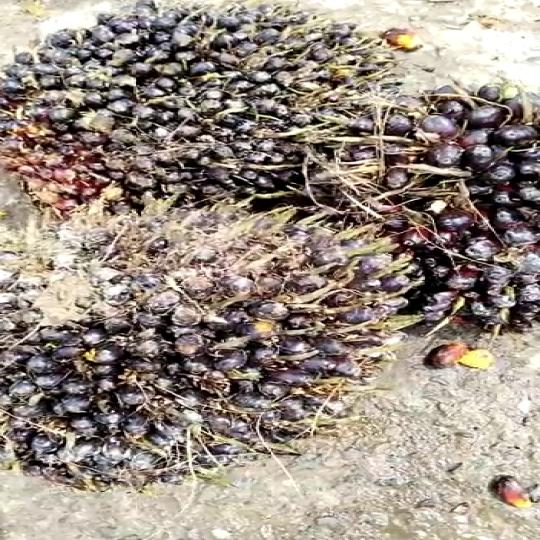mentah: (0, 186, 365, 494), (0, 1, 404, 200), (307, 78, 540, 337)
